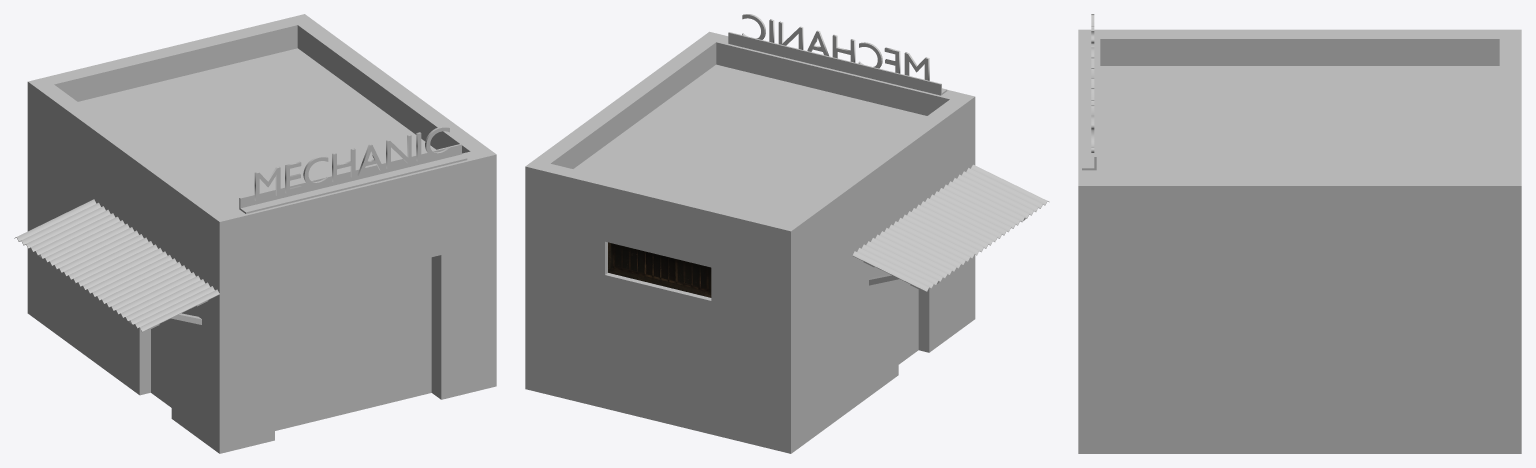
The model's file is garage_hm_1.fbx.
The picture shows the model from 3 angles, left to right: view 1: azimuth 30°, elevation 25°; view 2: azimuth 150°, elevation 25°; view 3: azimuth 270°, elevation 25°; orthographic projection. The views are drawn at different scales.
Visible parts, largest first — view 1: garage_hm_1; view 2: garage_hm_1; view 3: garage_hm_1.
Boxes of the visible parts, bbox=[...] form: garage_hm_1: bbox=[14, 14, 496, 453]; garage_hm_1: bbox=[525, 14, 1049, 453]; garage_hm_1: bbox=[1078, 14, 1521, 453].
Bounding box in the file's own units: 6.4 × 6 × 4.59.
